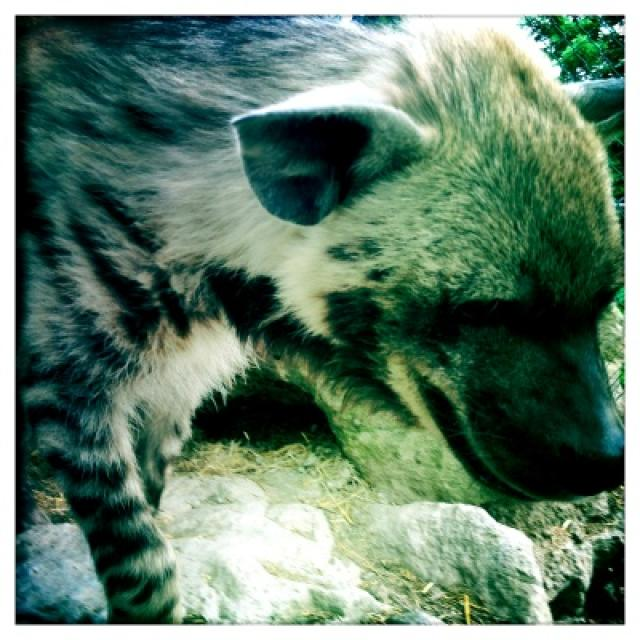hyena: (16, 14, 626, 626)
